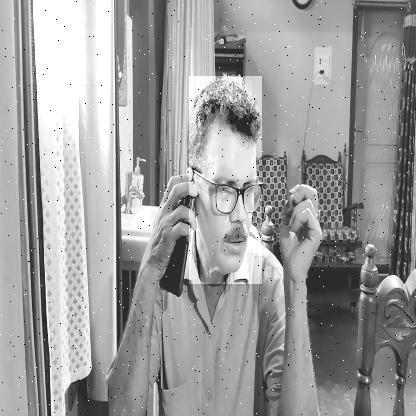Distracted: (189, 76, 262, 284)
